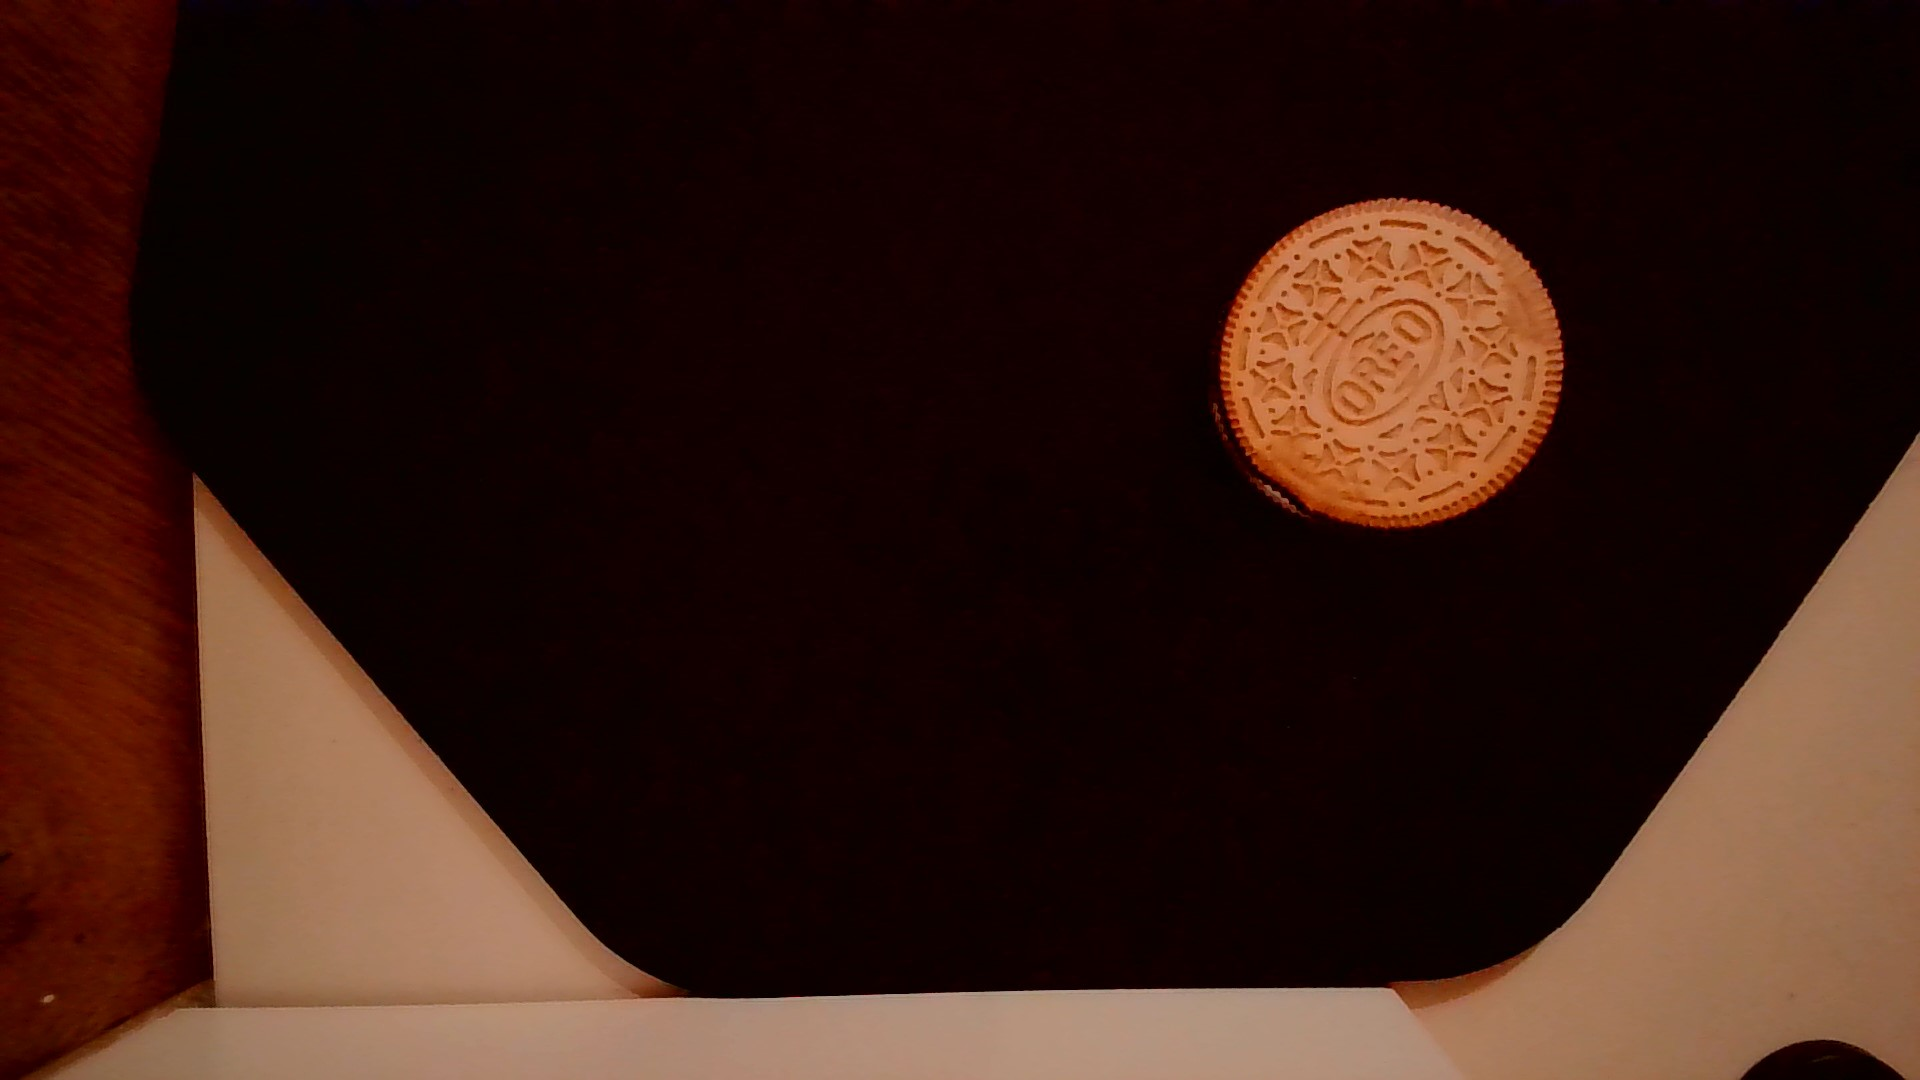Effacé: (1486, 231, 1560, 349), (1249, 434, 1356, 513)
Oréo: (1208, 193, 1571, 542)
